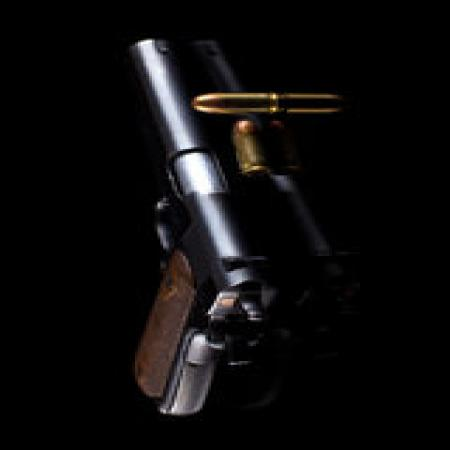Pistol: (124, 34, 278, 416)
